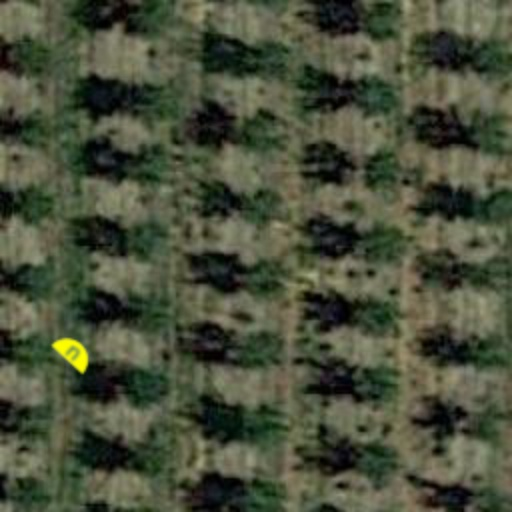semicircle: (42, 320, 106, 384)
